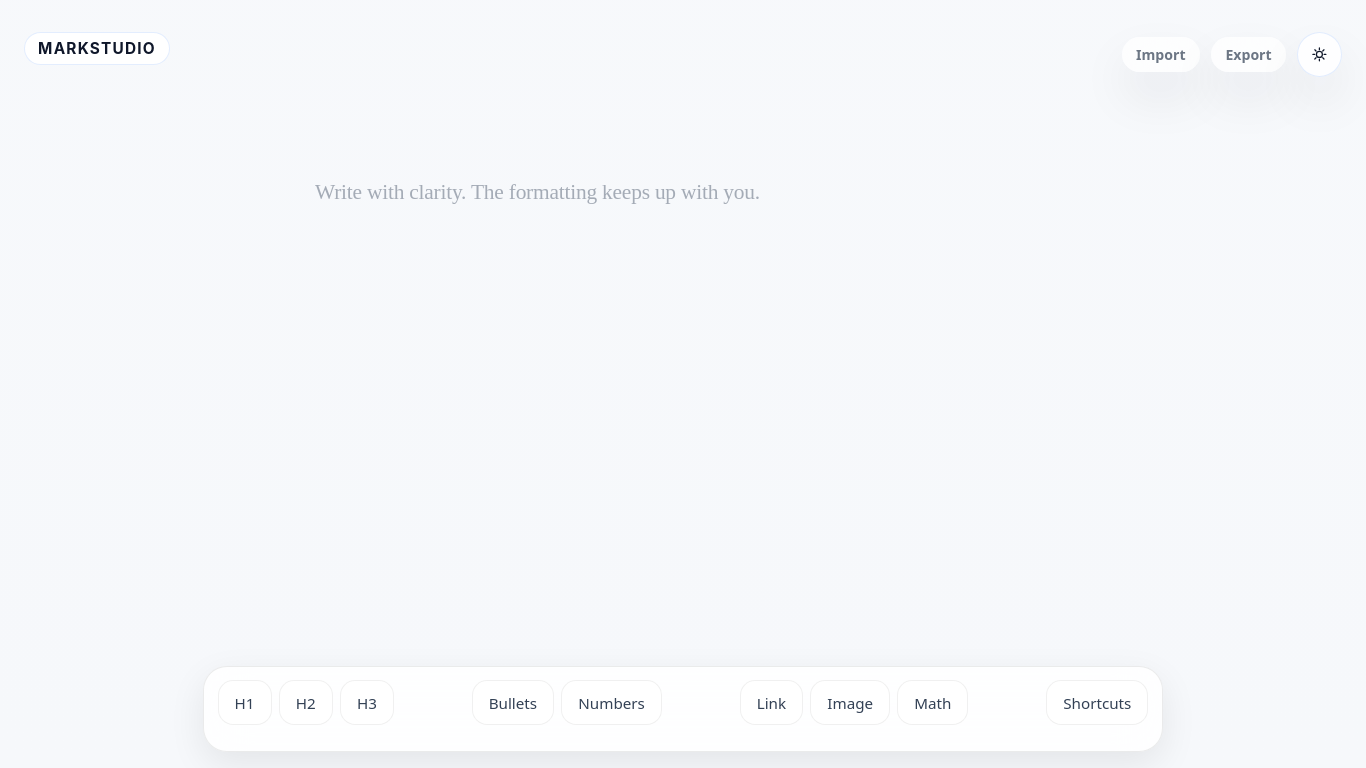
Test: App › closes the active prompt with Escape
This screenshot has width=1366, height=768.
Click the button "Image": coordinates (850, 703) [810,680,890,725]
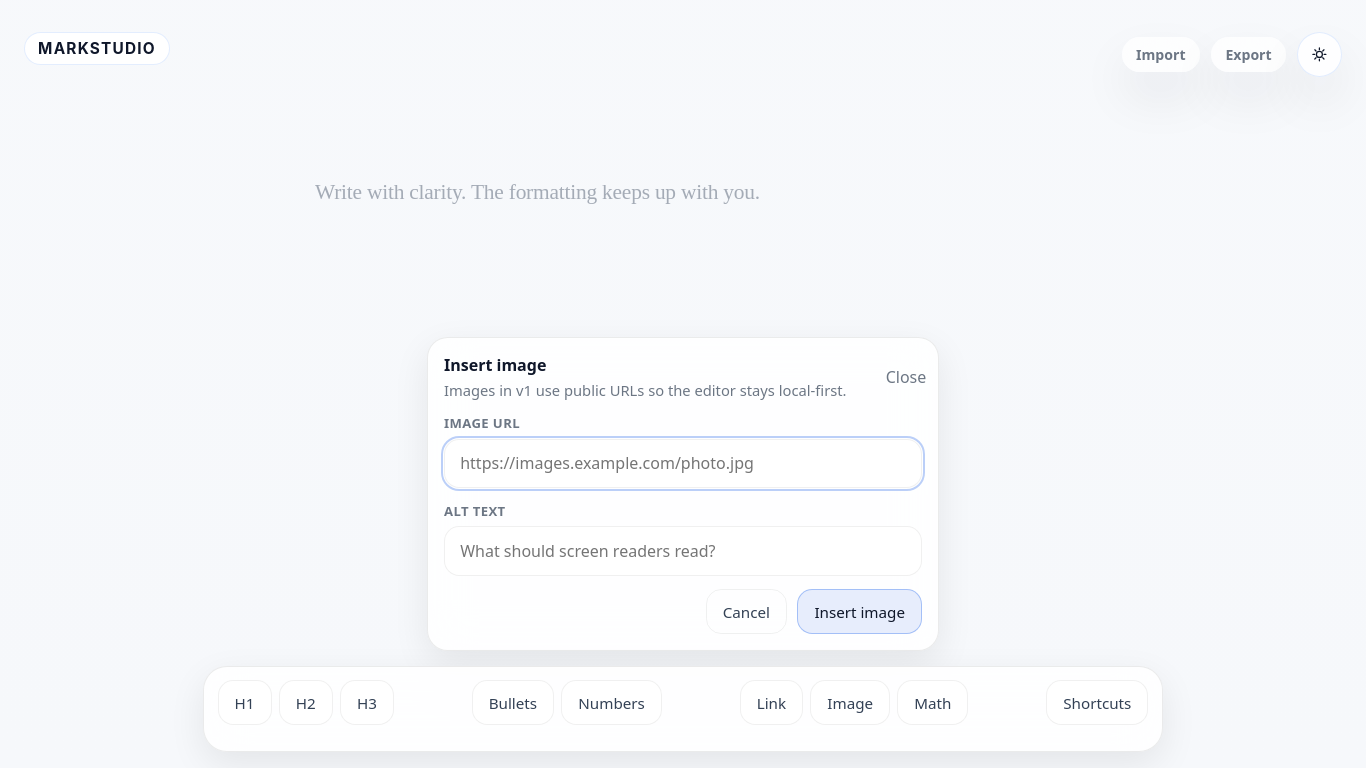
Expected: the heading "Insert image" is shown, [444,354,546,376]
Press Escape
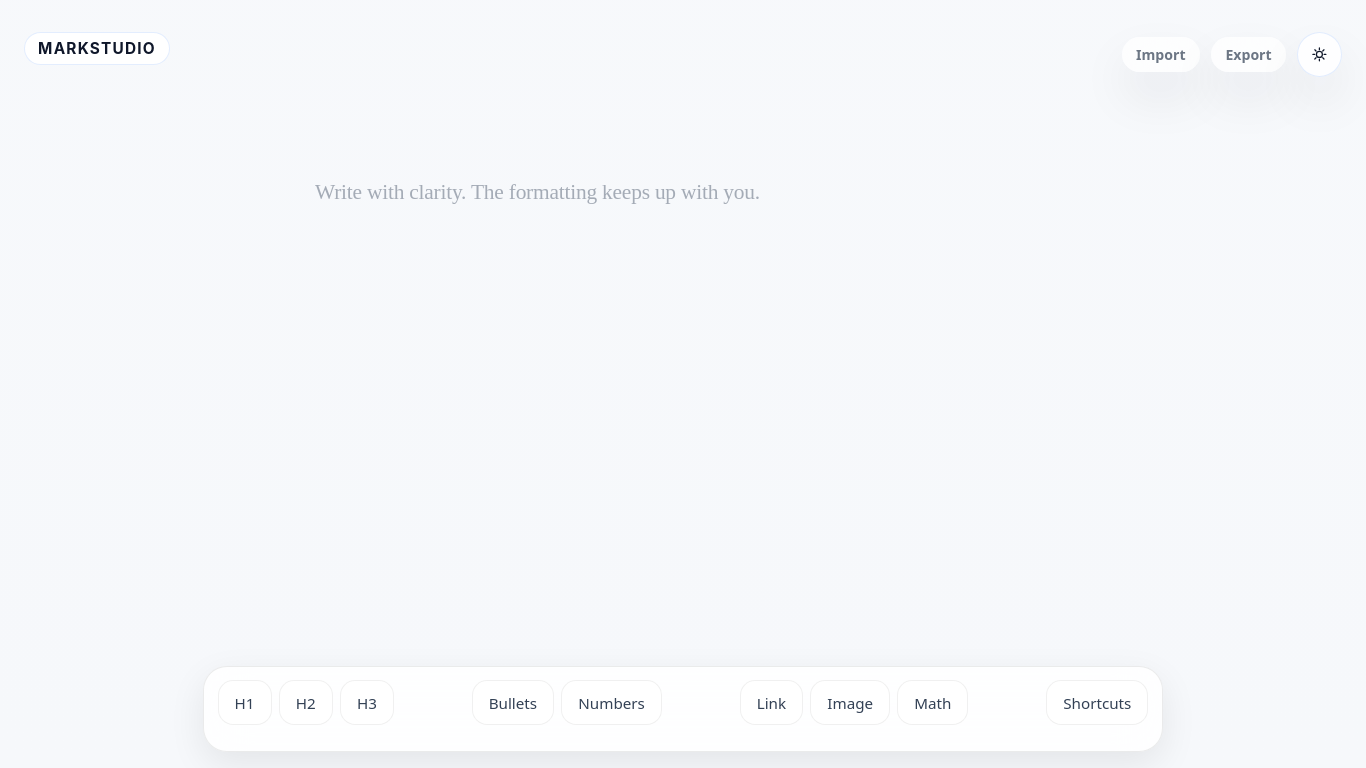
Expected: the heading "Insert image" is gone
